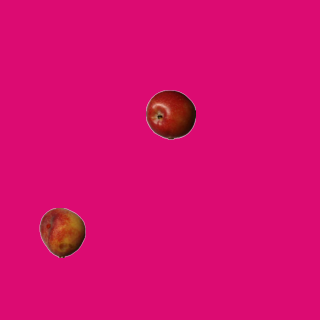Apple Braeburn: (145, 89, 195, 139)
Peach: (37, 207, 87, 257)
